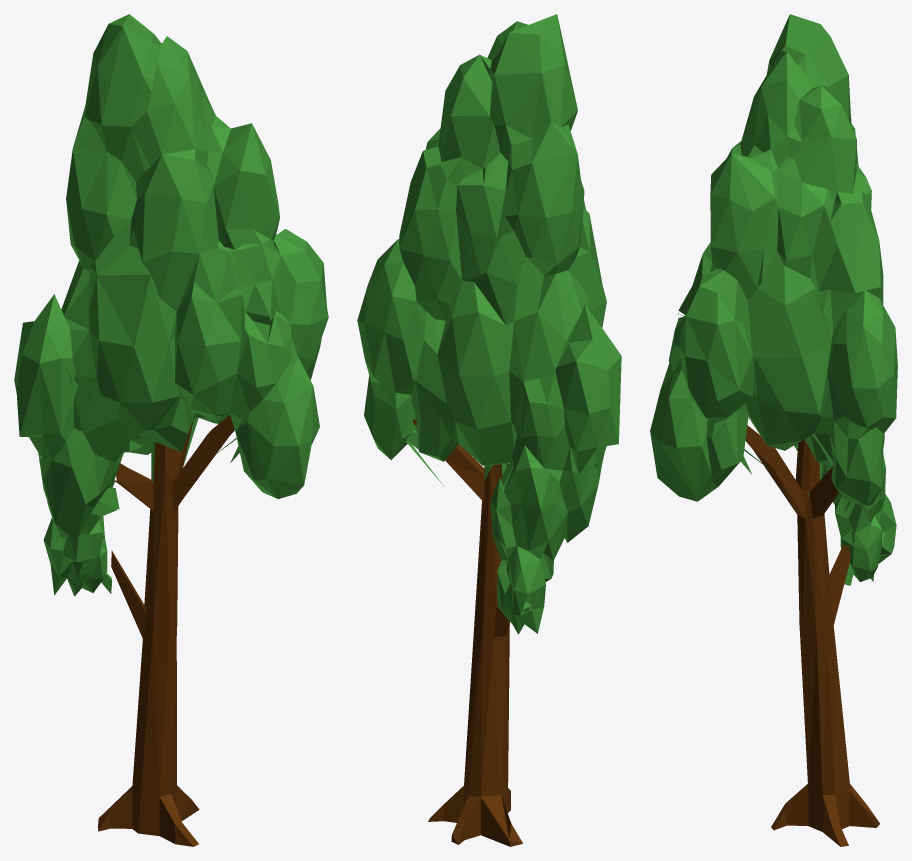
File: arbre4_v2.fbx
The picture shows the model from 3 angles, left to right: view 1: azimuth 30°, elevation 25°; view 2: azimuth 150°, elevation 25°; view 3: azimuth 270°, elevation 25°; orthographic projection. The views are drawn at different scales.
Visible parts, largest first — view 1: _6_tree__6_tree_0.1124; view 2: _6_tree__6_tree_0.1124; view 3: _6_tree__6_tree_0.1124.
Boxes of the visible parts, bbox=[...] form: _6_tree__6_tree_0.1124: bbox=[14, 14, 328, 846]; _6_tree__6_tree_0.1124: bbox=[357, 14, 621, 846]; _6_tree__6_tree_0.1124: bbox=[650, 14, 897, 846].
Size of the model in its own units: 141 by 454 by 130.
2 materials, 2 textured.
